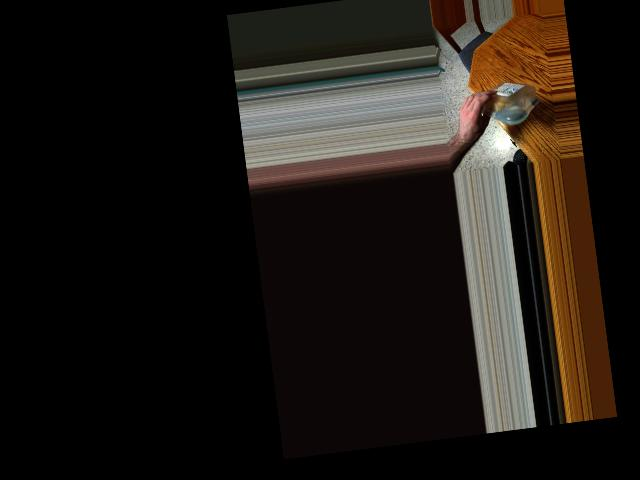cheese: (469, 80, 537, 124)
